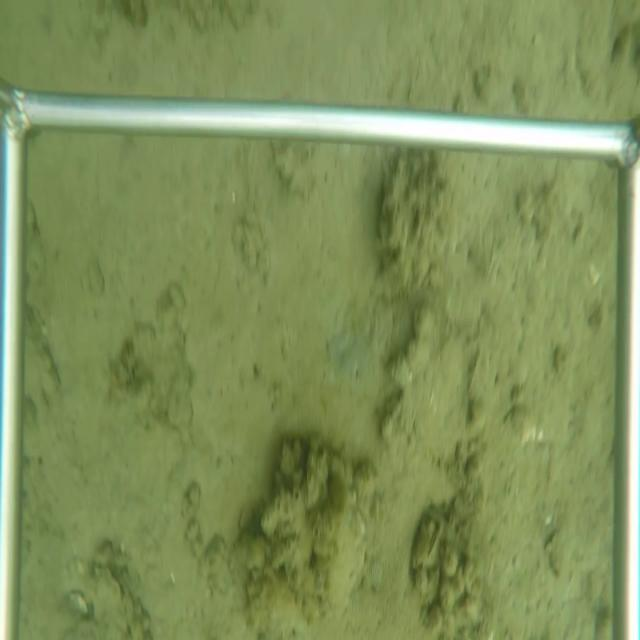Oyster-Closed: (312, 446, 371, 628)
Oyster-Open: (410, 505, 450, 570)
